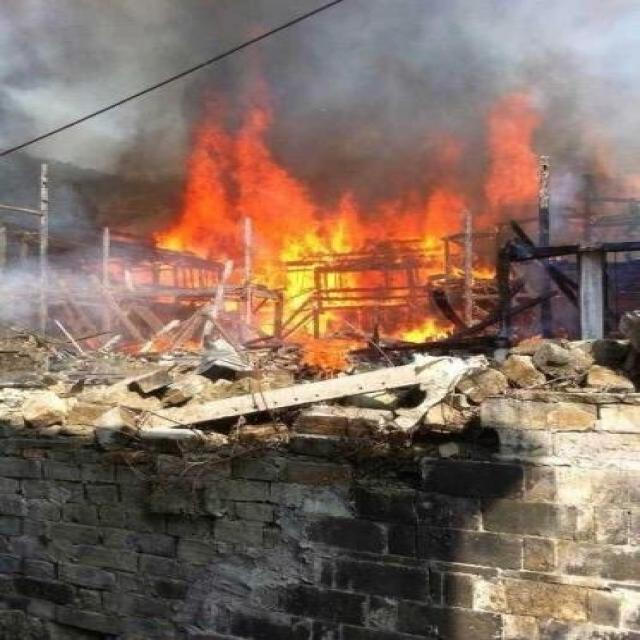Fire: (104, 83, 540, 374)
Smoke: (1, 1, 640, 330)
